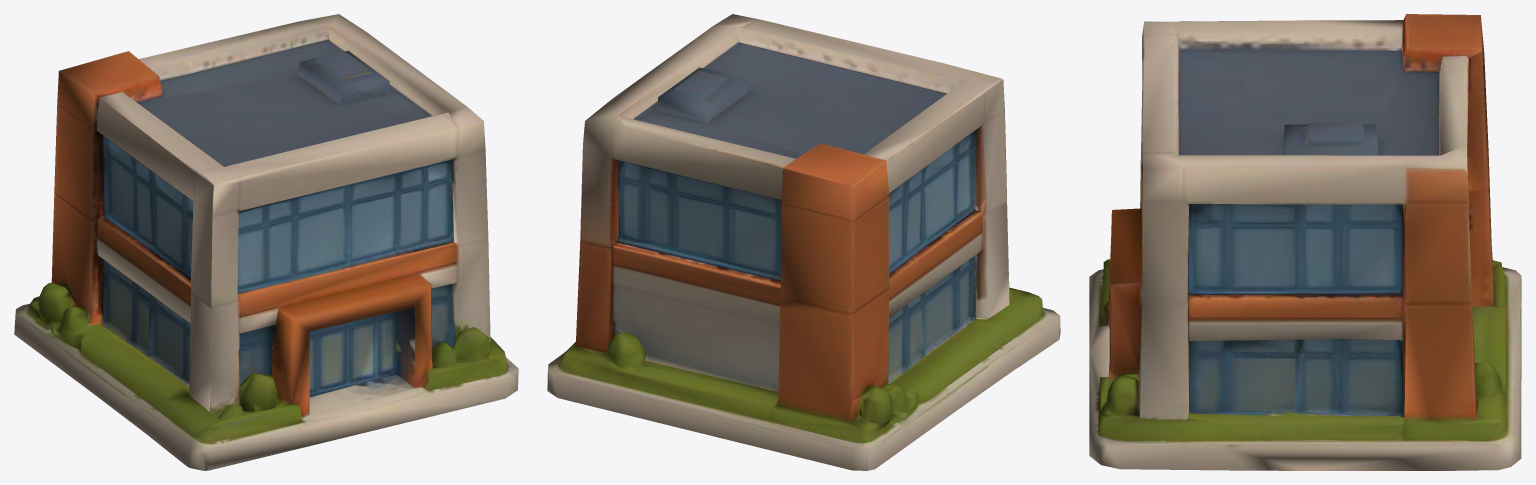
The model's file is now-office.lod.glb.
3 views of the same model, side by side, from view 1: azimuth 30°, elevation 25°; view 2: azimuth 150°, elevation 25°; view 3: azimuth 270°, elevation 25° (orthographic). The views are drawn at different scales.
Visible parts, largest first — view 1: textured_mesh.obj; view 2: textured_mesh.obj; view 3: textured_mesh.obj.
Boxes of the visible parts, x1,y1,x2,y2 form: textured_mesh.obj: (14, 14, 518, 470); textured_mesh.obj: (547, 14, 1060, 470); textured_mesh.obj: (1089, 14, 1521, 470).
Bounding box in the file's own units: 1.3 × 0.9939 × 1.3.
1 material, 1 textured.
